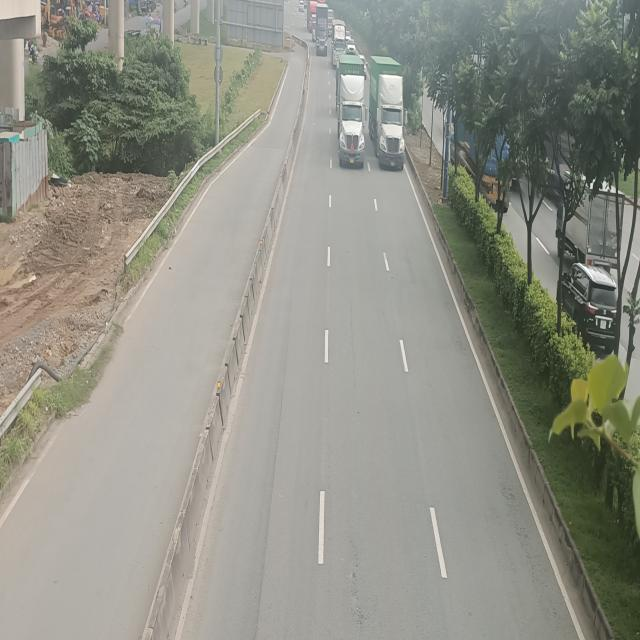container: (369, 56, 406, 172), (338, 55, 369, 170)
